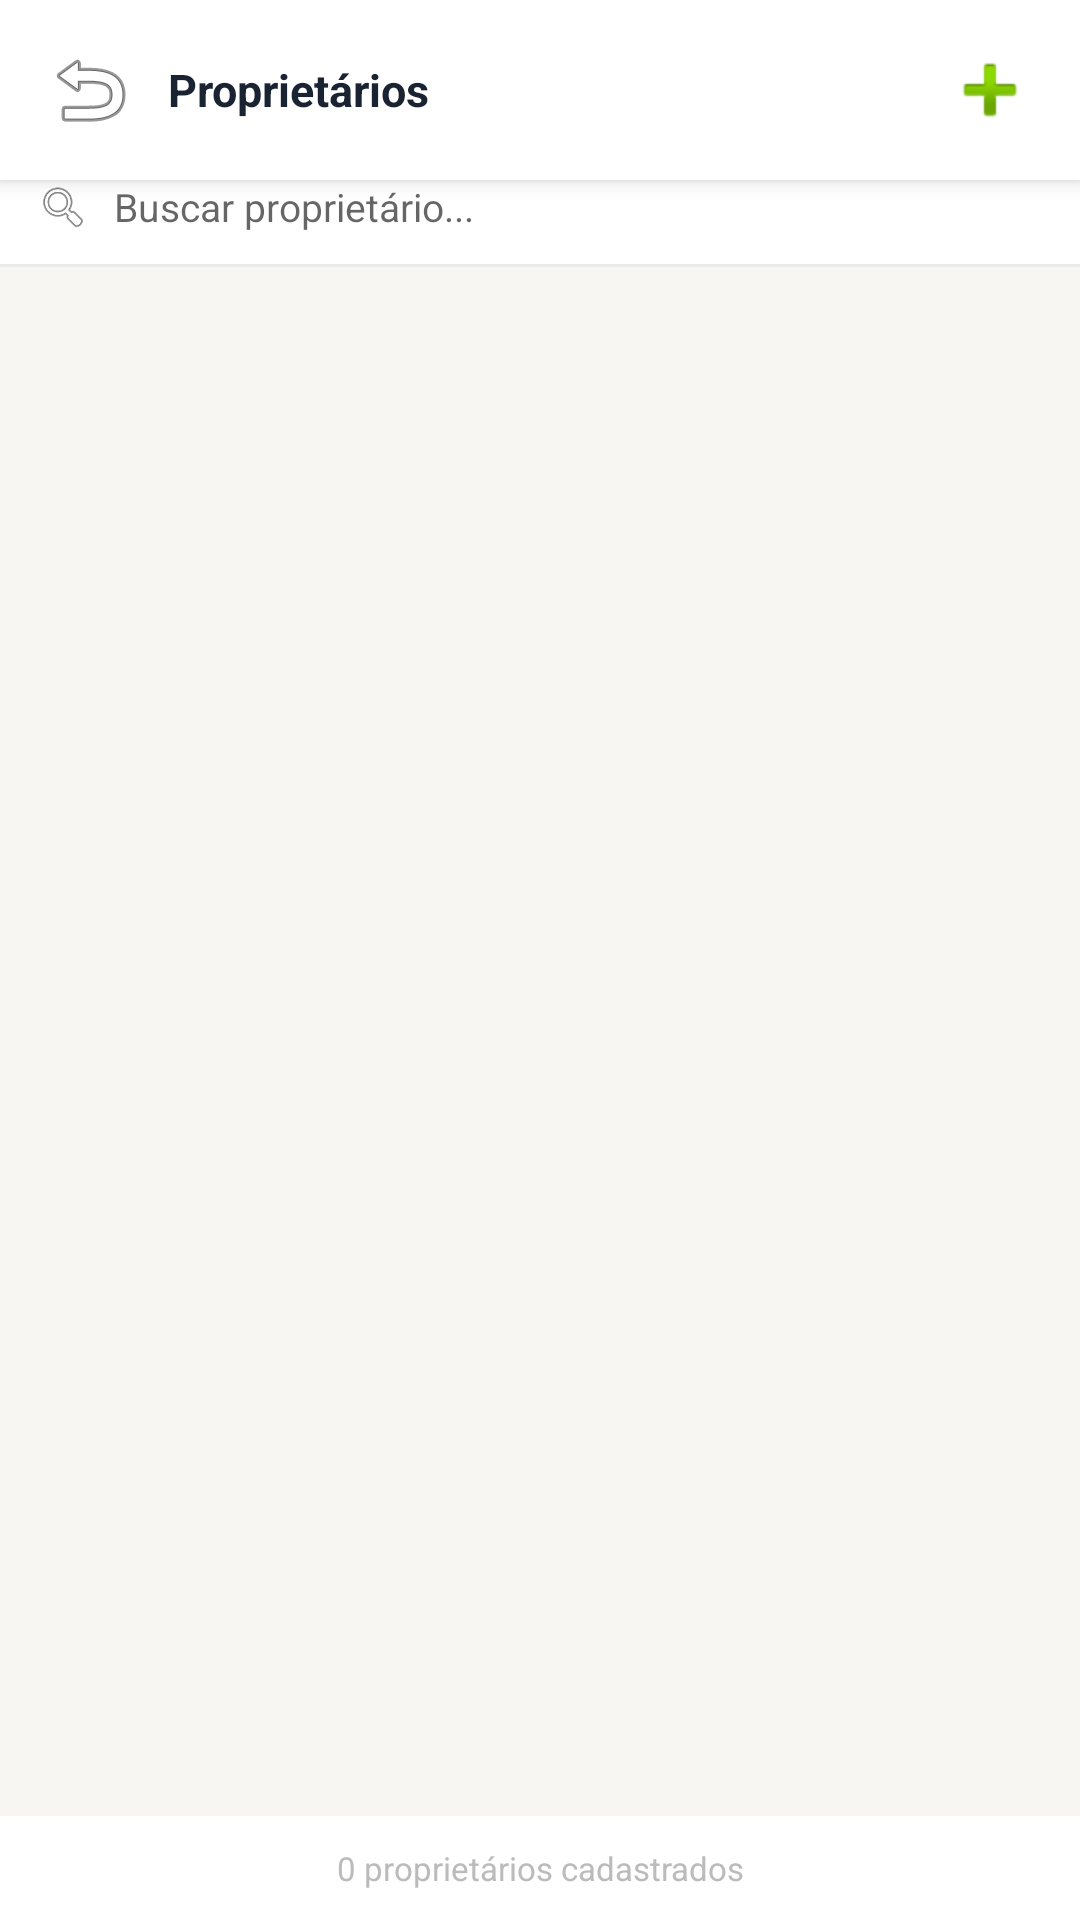

Icons on this 1080px×1920px Android screen, each with its box as (x1, y1, x2, y2):
Novo proprietário: (963, 63, 1017, 117)
Voltar: (57, 59, 126, 122)
